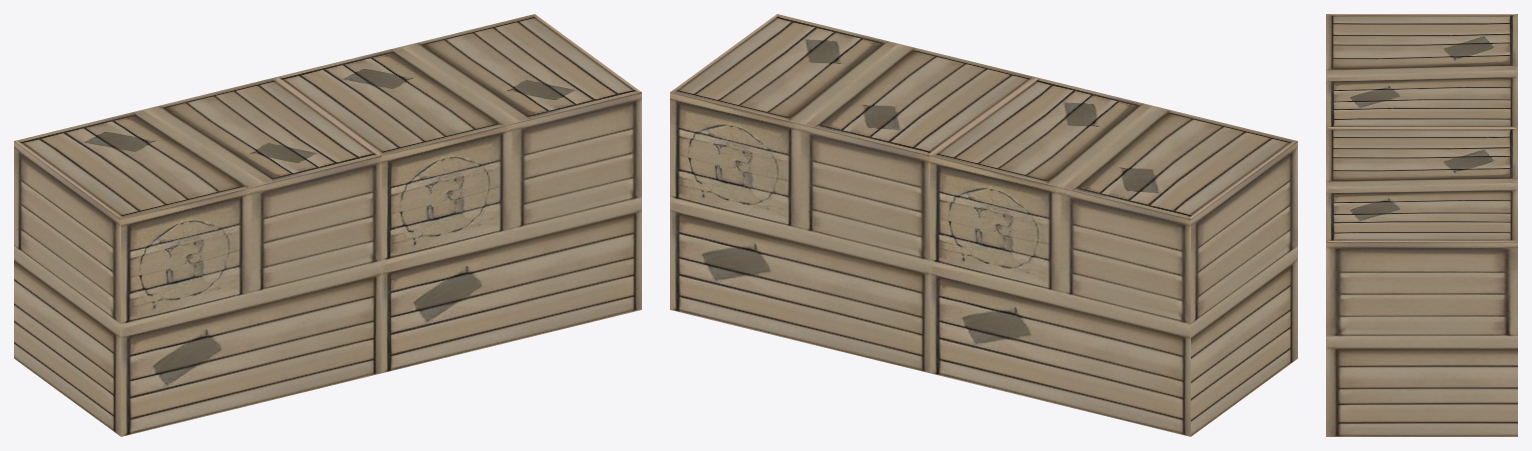
The model's file is woodencrates_hdtex.glb.
The picture shows the model from 3 angles, left to right: view 1: azimuth 30°, elevation 25°; view 2: azimuth 150°, elevation 25°; view 3: azimuth 270°, elevation 25°; orthographic projection. The views are drawn at different scales.
Visible parts, largest first — view 1: woodencratesstacked; view 2: woodencratesstacked; view 3: woodencratesstacked.
Boxes of the visible parts, x1=… form: woodencratesstacked: x1=14, y1=14, x2=641, y2=436; woodencratesstacked: x1=670, y1=14, x2=1297, y2=436; woodencratesstacked: x1=1326, y1=14, x2=1517, y2=436.
Size of the model in its own units: 8.5 by 3.39 by 3.02.
Materials: 1 (1 with a texture image).
